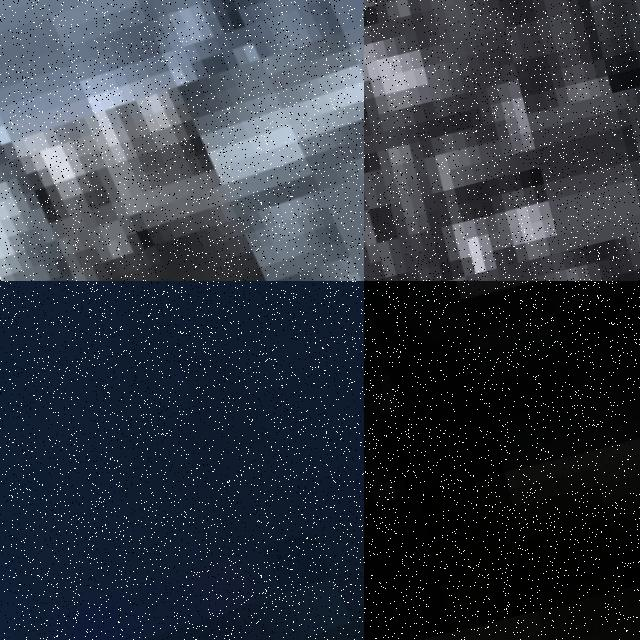drone: (0, 281, 364, 640), (0, 0, 364, 281)
